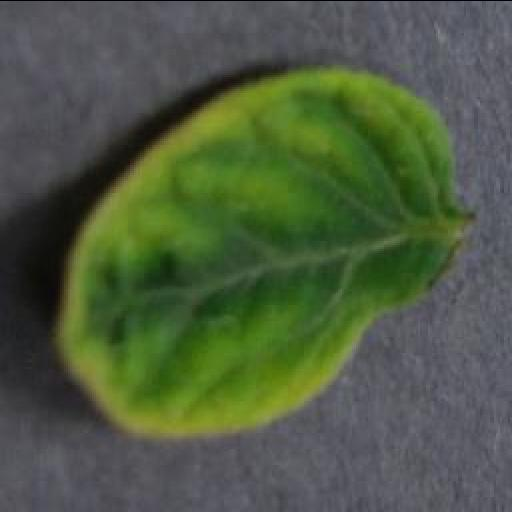disease_tomato: (56, 63, 460, 441)
